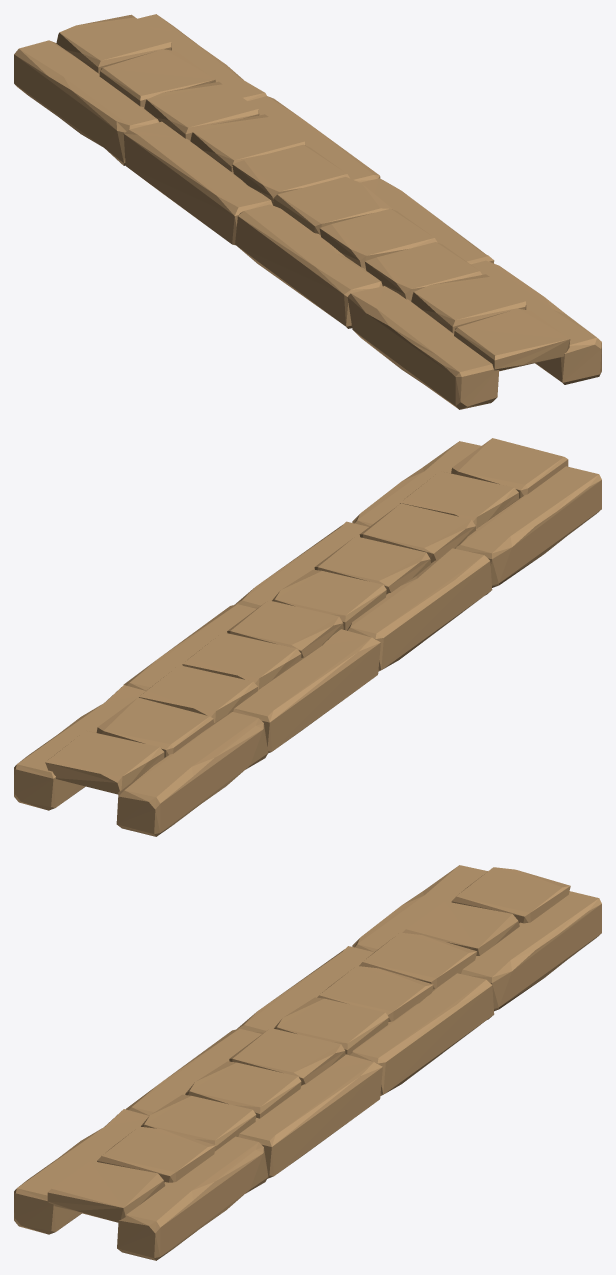
File: SM_curbstones_01.fbx
The picture shows the model from 3 angles, top to bottom: view 1: azimuth 30°, elevation 25°; view 2: azimuth 150°, elevation 25°; view 3: azimuth 330°, elevation 25°; orthographic projection.
Visible parts, largest first — view 1: Object33209; view 2: Object33209; view 3: Object33209.
Part boxes in pixels (x1,y1,x2,y2): Object33209: (14,14,601,409); Object33209: (14,438,601,836); Object33209: (14,865,601,1260).
Size of the model in its own units: 39.69 by 12.33 by 207.
